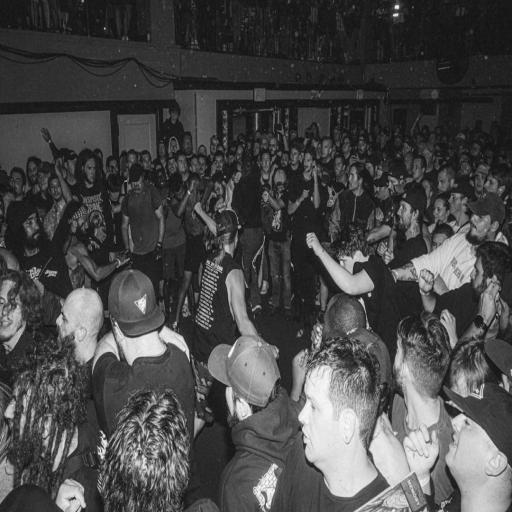face: (299, 367, 340, 468), (446, 414, 496, 482), (0, 281, 26, 342), (56, 296, 79, 340), (467, 215, 492, 244), (471, 258, 487, 300), (24, 214, 40, 244), (398, 201, 412, 230), (433, 200, 449, 223), (348, 166, 362, 190), (84, 158, 96, 184), (449, 192, 463, 213), (438, 171, 451, 192), (412, 159, 424, 181), (474, 173, 486, 194)
